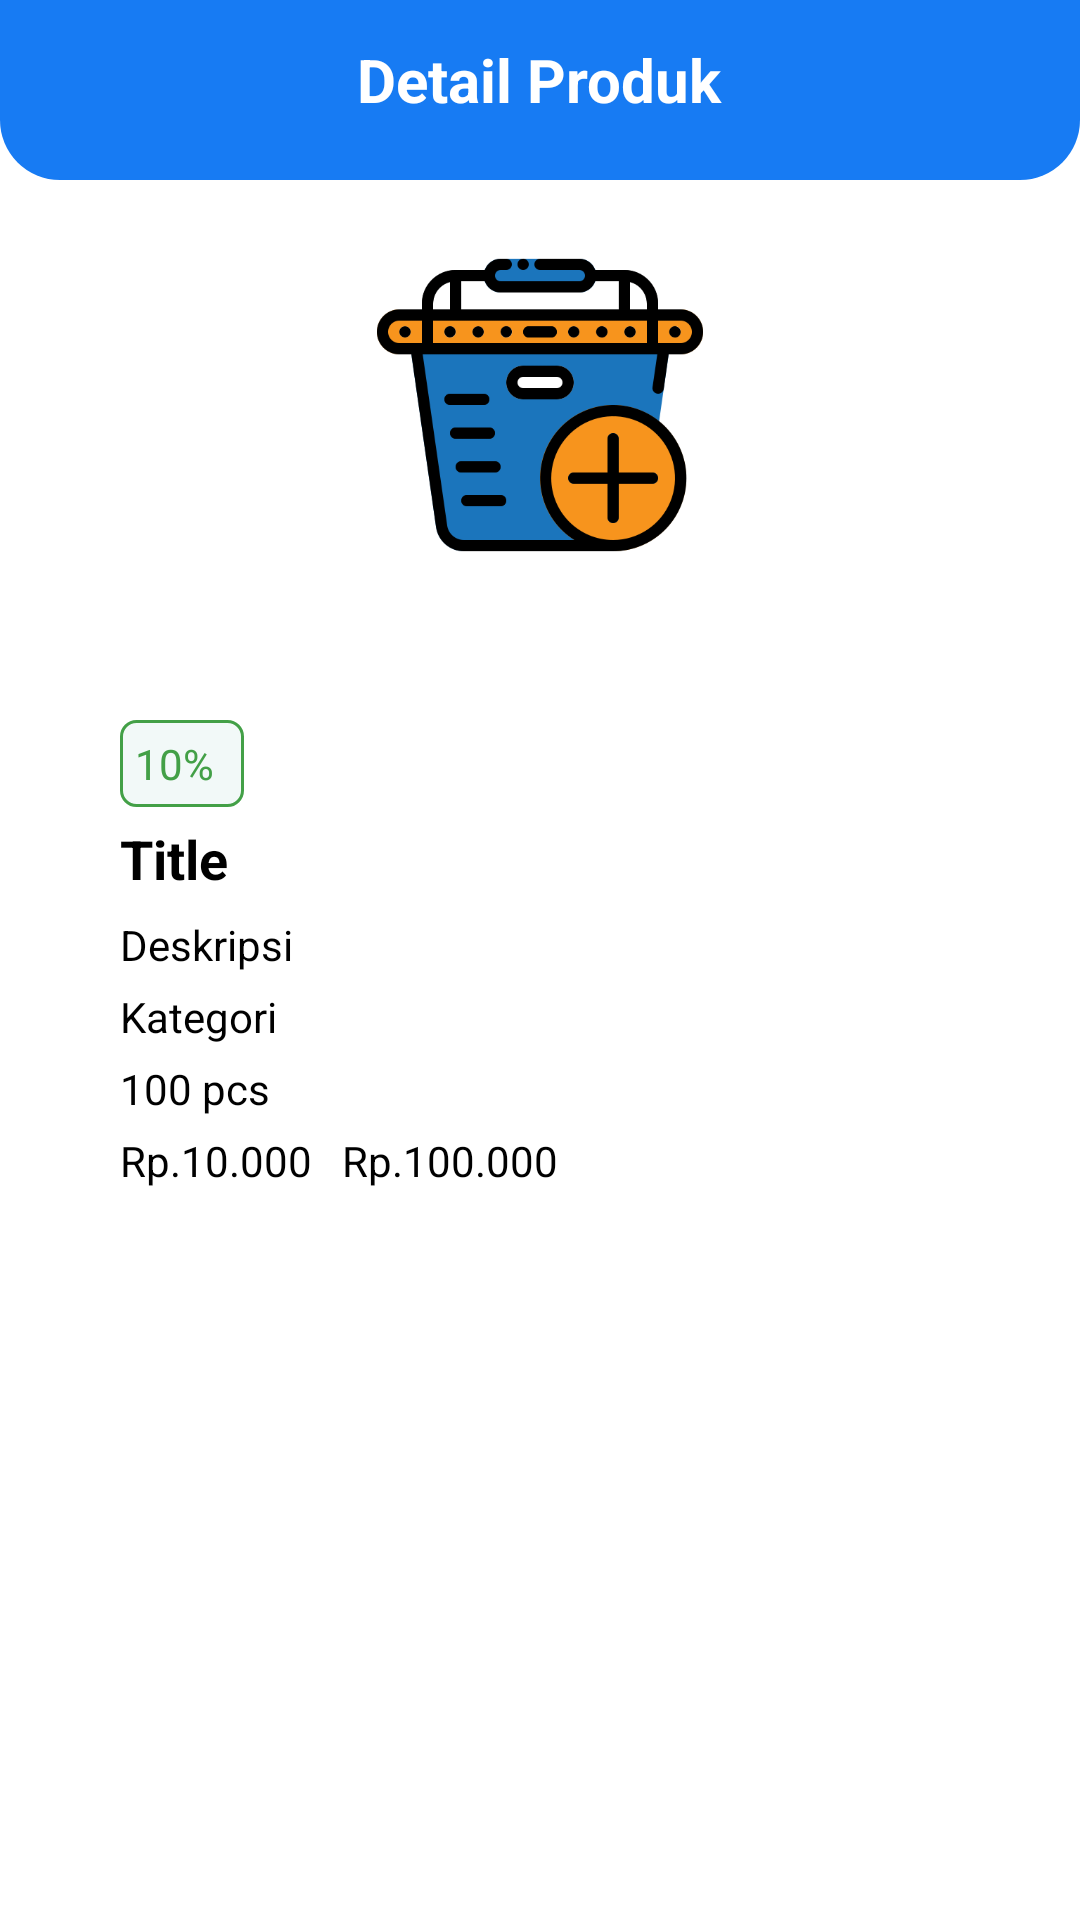

Point at icon controls on the screen. Image size 1080x1920, points as (x,y).
addproduct: (540,405)
